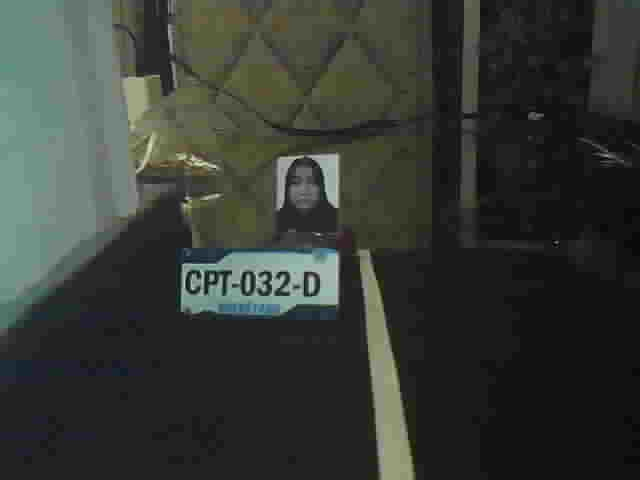PLACA: (177, 245, 343, 324)
ROSTRO: (277, 156, 341, 231)
